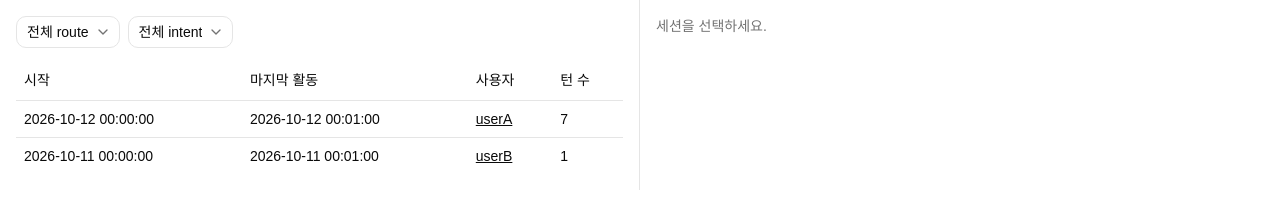
Test: LogsPage › [S4] 행의 어느 칸을 눌러도 세션이 선택되고 선택된 행이 강조된다(버튼 키보드 접근 유지)
What coordinates should you click on to do the following:
click the text "7"
I would click on:
 (564, 118)
Its box is [552,100,623,137].
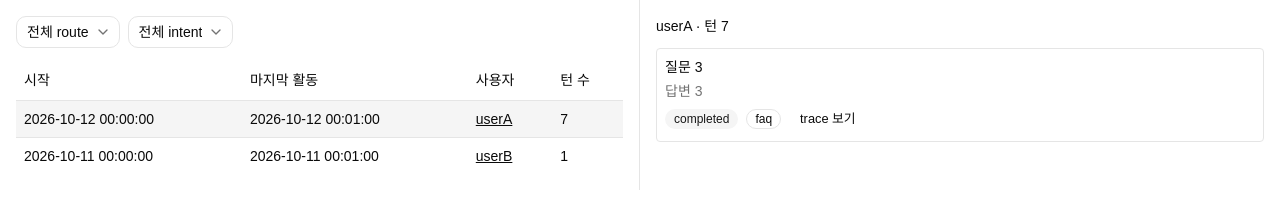
Expected: the text "질문 3" is shown, [665,59,702,75]
